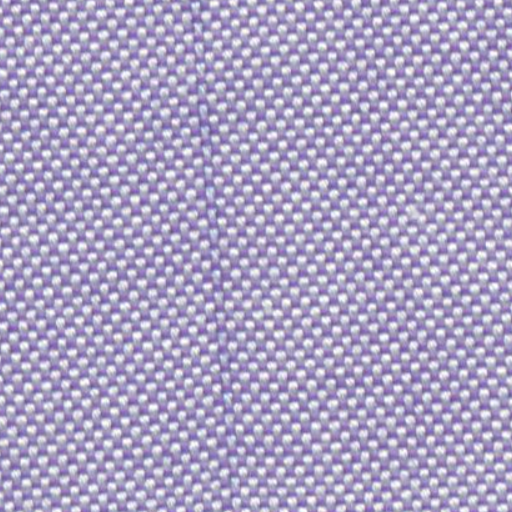TuoSha: (176, 10, 254, 502)
